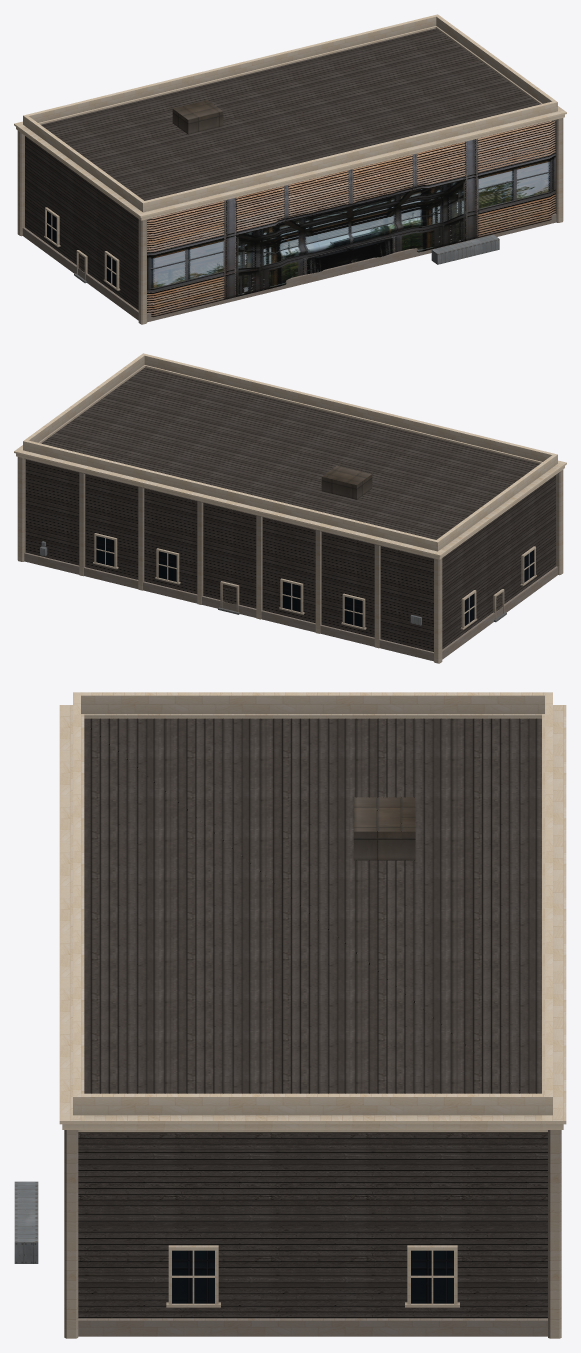
Rendered from greenway-station_lod0.gltf.
3 renders of one model, top to bottom at view 1: azimuth 30°, elevation 25°; view 2: azimuth 150°, elevation 25°; view 3: azimuth 270°, elevation 25°, orthographic. The views are drawn at different scales.
Parts seen in each view (by area): view 1: greenway-station_main, greenway-station_front, greenway-station__v4_stone_detail, greenway-station__v4_metal_detail, greenway-station__bike_racks, greenway-station_fen_04-limestone_0, greenway-station_fen_07-glass-curtain-blue_5_t; view 2: greenway-station_main, greenway-station__v4_stone_detail, greenway-station_fen_04-limestone_0, greenway-station_fen_07-glass-curtain-blue_5_t, greenway-station__v4_metal_detail; view 3: greenway-station_main, greenway-station__v4_stone_detail, greenway-station_fen_07-glass-curtain-blue_5_t, greenway-station__v4_metal_detail, greenway-station_fen_04-limestone_0, greenway-station__bike_racks.
Boxes of the visible parts, x1,y1,x2,y2 form: greenway-station_main: (25, 28, 539, 310); greenway-station_front: (147, 120, 555, 317); greenway-station__v4_stone_detail: (14, 14, 566, 324); greenway-station__v4_metal_detail: (172, 100, 223, 134); greenway-station__bike_racks: (431, 234, 499, 264); greenway-station_fen_04-limestone_0: (44, 207, 120, 290); greenway-station_fen_07-glass-curtain-blue_5_t: (47, 211, 116, 286); greenway-station_main: (25, 367, 555, 651); greenway-station__v4_stone_detail: (14, 353, 566, 663); greenway-station_fen_04-limestone_0: (93, 533, 536, 629); greenway-station_fen_07-glass-curtain-blue_5_t: (96, 536, 533, 627); greenway-station__v4_metal_detail: (321, 465, 372, 499); greenway-station_main: (78, 718, 547, 1318); greenway-station__v4_stone_detail: (59, 692, 566, 1338); greenway-station_fen_07-glass-curtain-blue_5_t: (172, 1250, 453, 1303); greenway-station__v4_metal_detail: (353, 797, 415, 860); greenway-station_fen_04-limestone_0: (166, 1245, 459, 1307); greenway-station__bike_racks: (14, 1181, 38, 1263).
Size of the model in its own units: 41.22 by 11.37 by 23.11.
